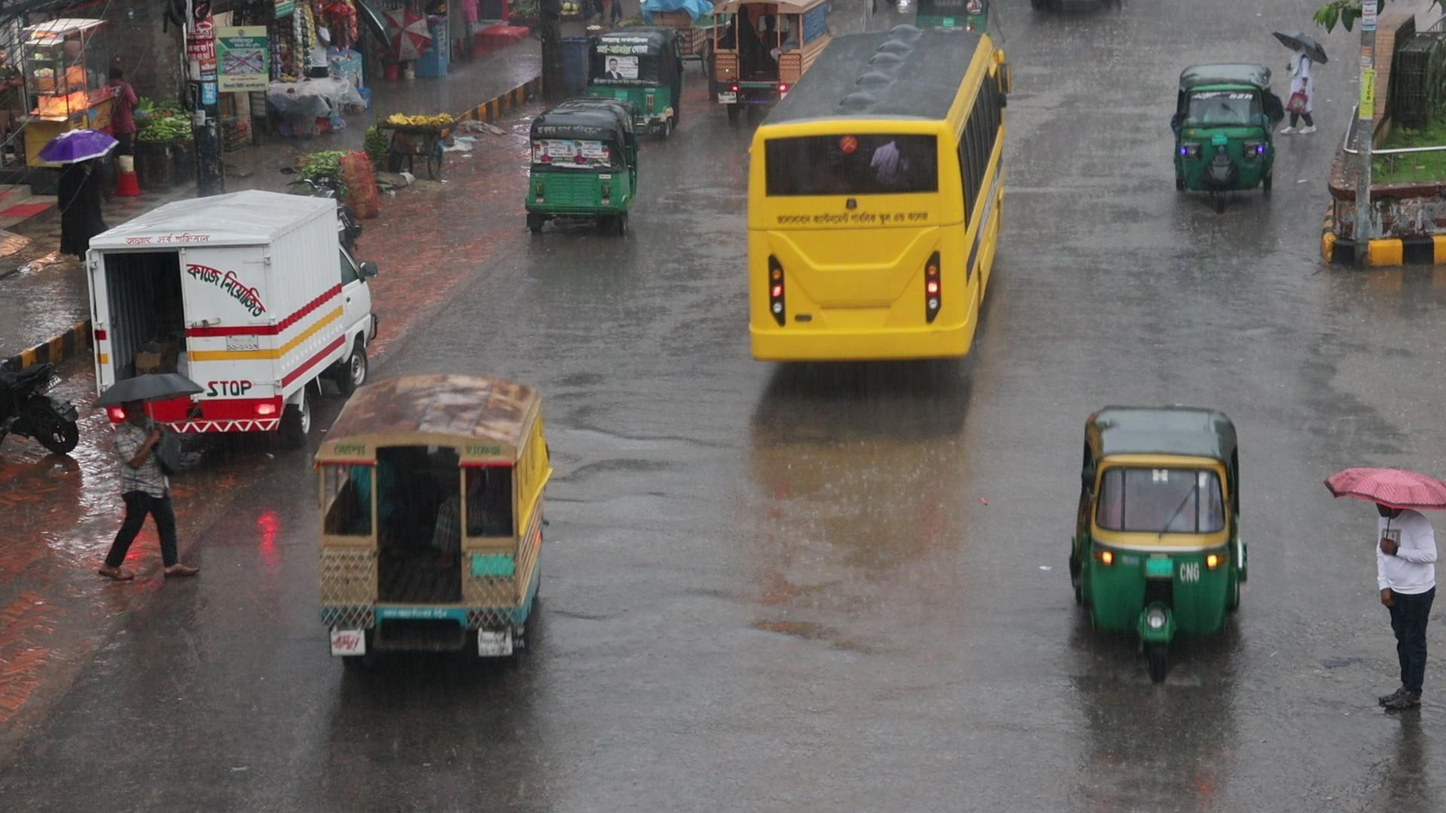Bus: (738, 18, 1013, 374)
Truck: (301, 362, 552, 677)
